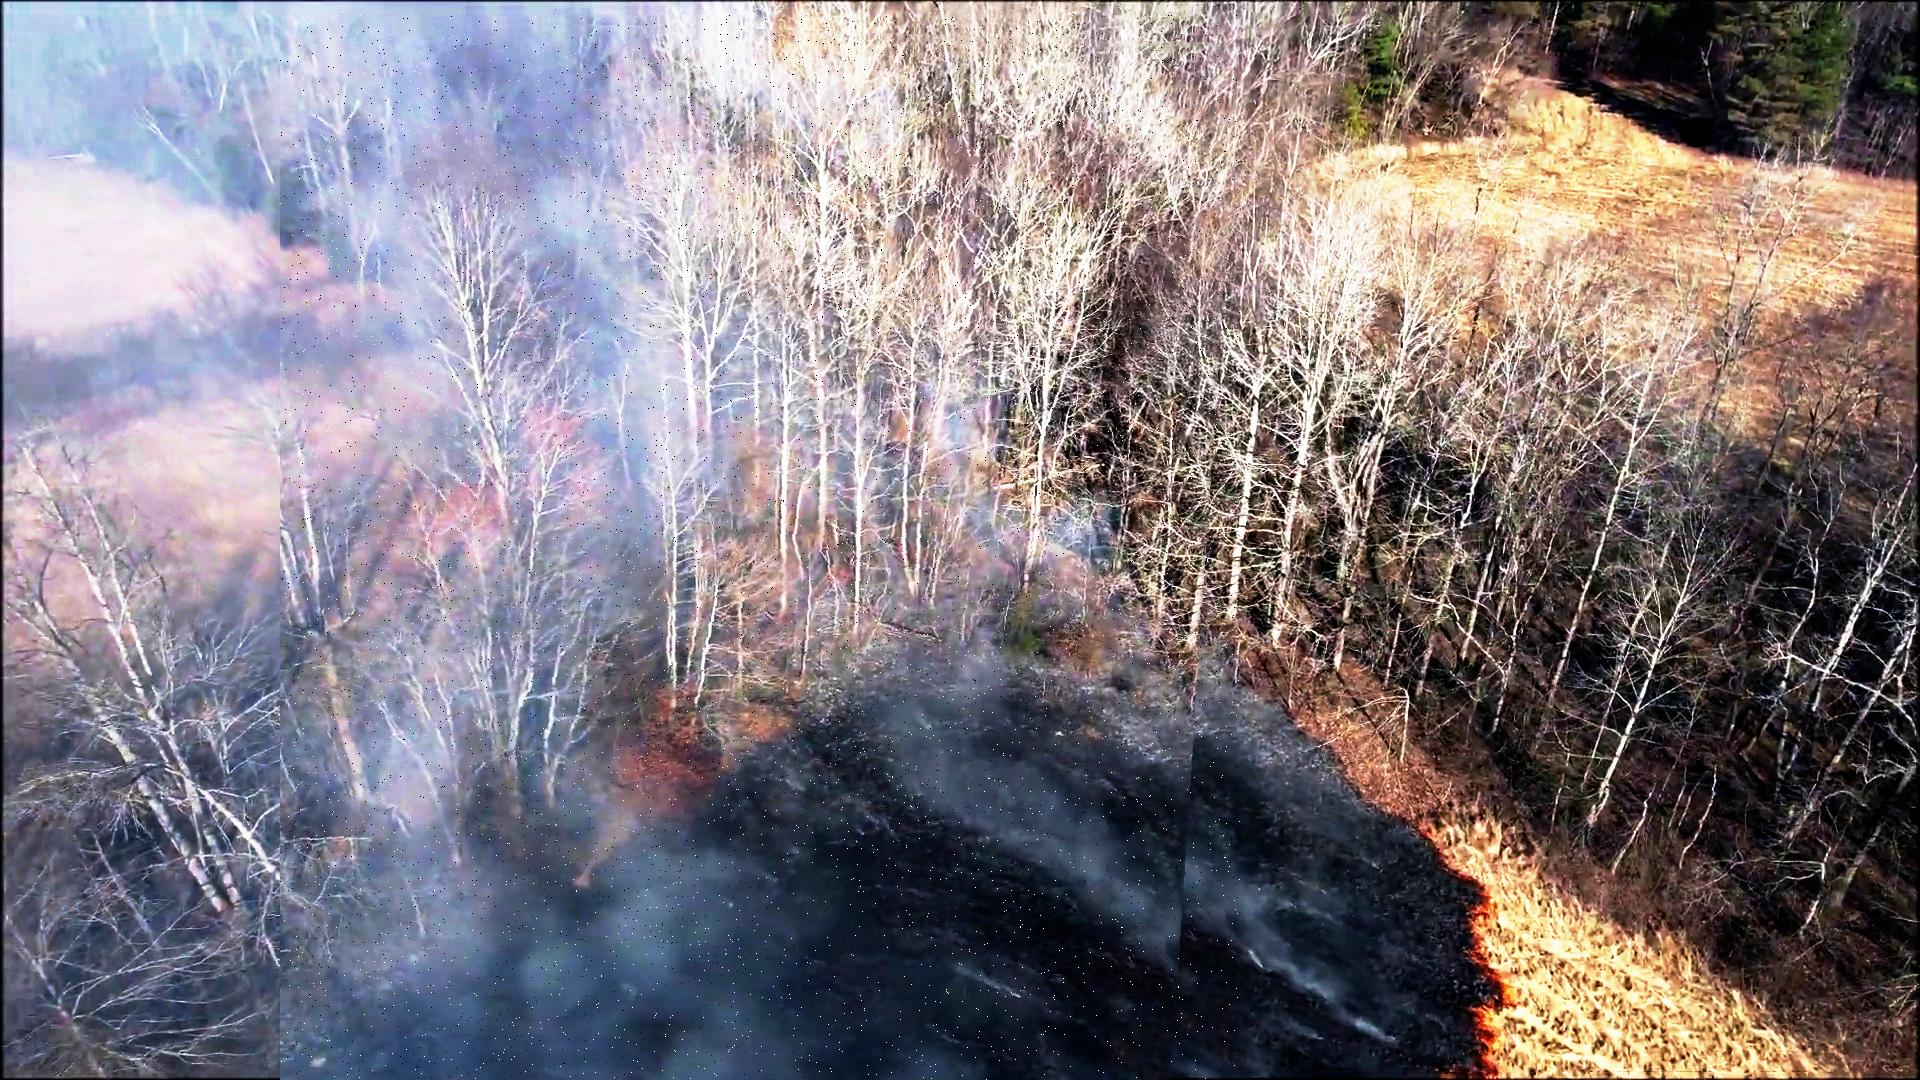smoke: (280, 15, 1240, 1080)
